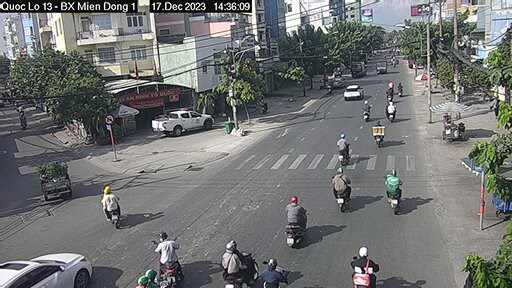car: (2, 245, 97, 288), (154, 112, 219, 132), (342, 79, 361, 101)
motorbike: (152, 236, 186, 279), (286, 201, 315, 250), (350, 248, 384, 288), (225, 241, 255, 284), (98, 187, 126, 229), (333, 167, 357, 207), (383, 171, 404, 209), (335, 133, 350, 159), (359, 99, 372, 118), (386, 103, 398, 120)
